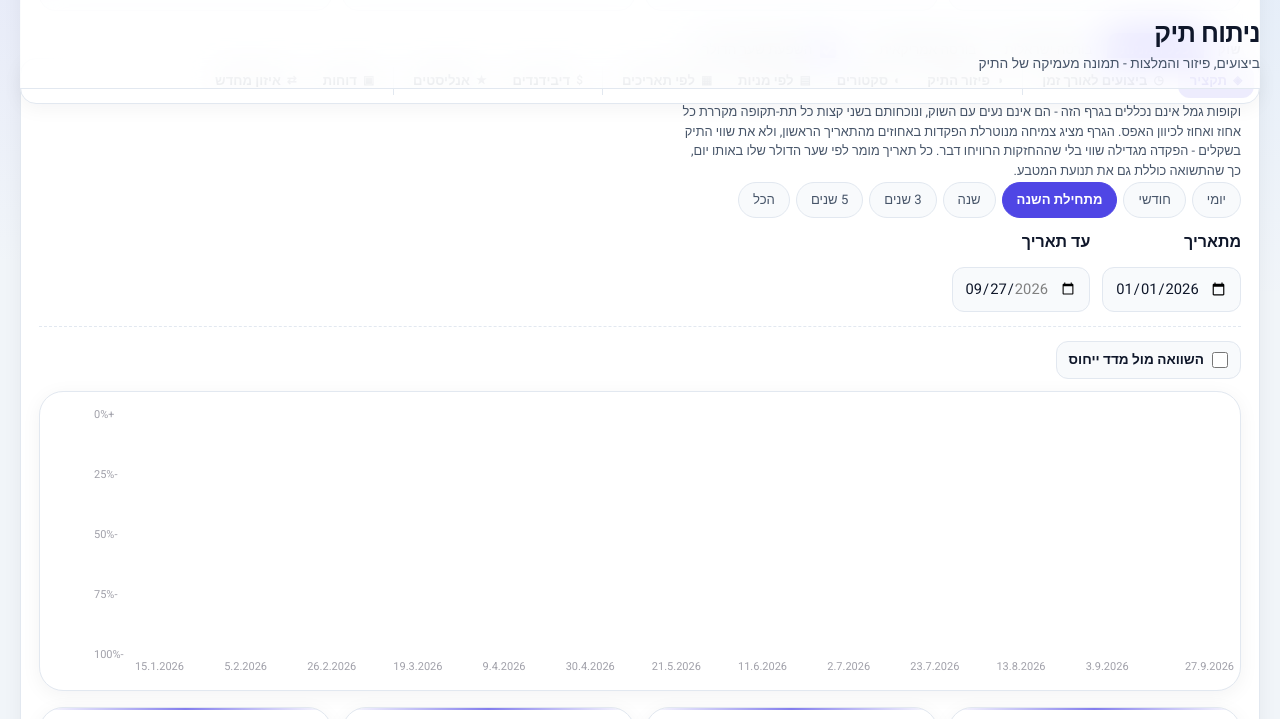
Test case: PortfolioAnalysisView › benchmarks follow the selected market › says that US indices are shown in shekels
The width and height of the screenshot is (1280, 719).
(page scrolled)
Click the checkbox labelled "השוואה מול מדד ייחוס" at x=1220, y=360, box [1212,352,1228,368]
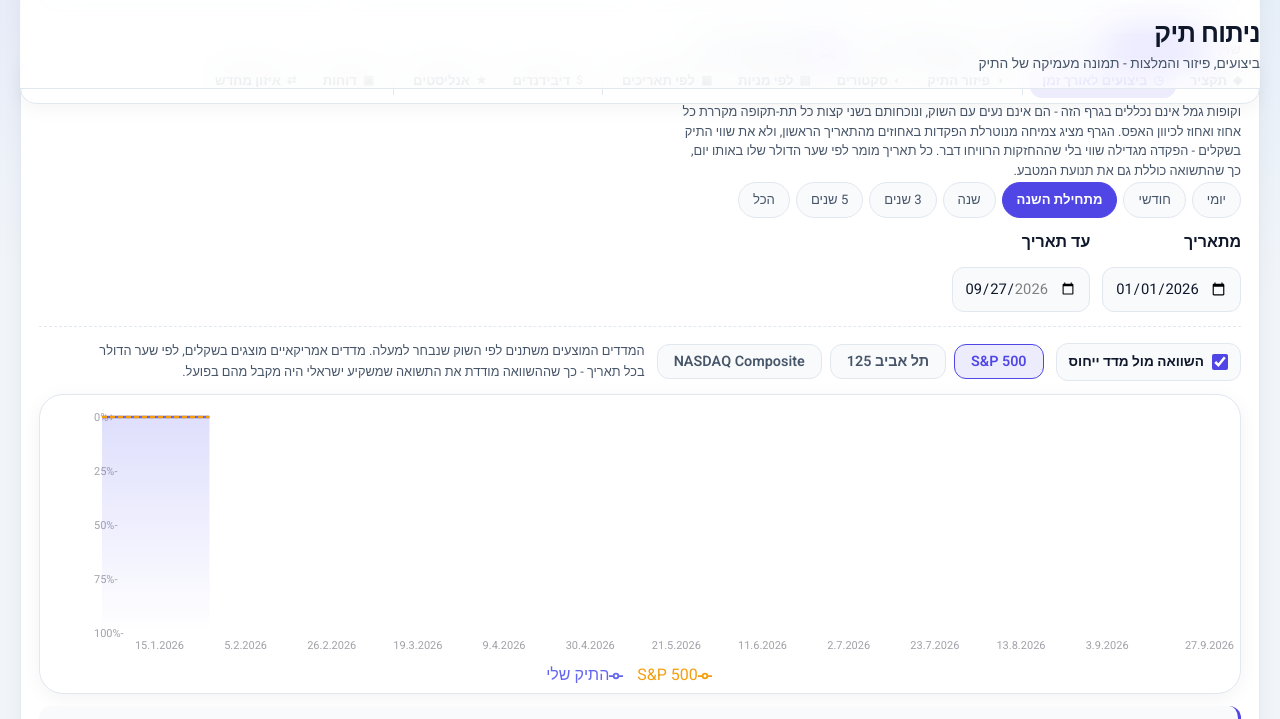
Expected: the text "מוצגים בשקלים" is shown, [99,342,645,380]
